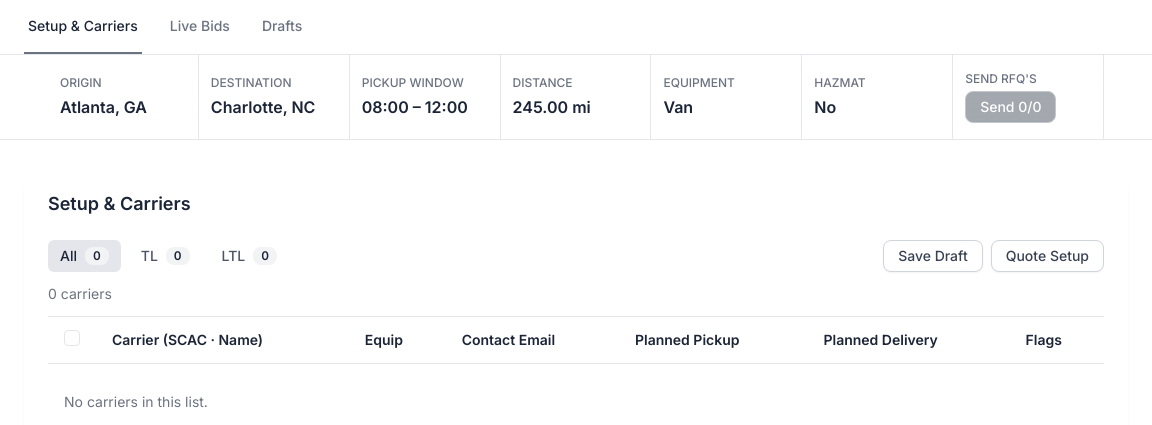
Test case: SpotBoardTab › renders the shipment context as a sticky strip on the Setup sub-tab only
This screenshot has width=1152, height=425.
Check: the element with class "spot-sticky-strip" is shown, box [0,55,1151,140]
Check: the element with class "spot-sticky-strip" shows "Atlanta, GA", box [60,97,147,117]
Click the button "Live Bids" at (200, 35), box [166,16,234,54]
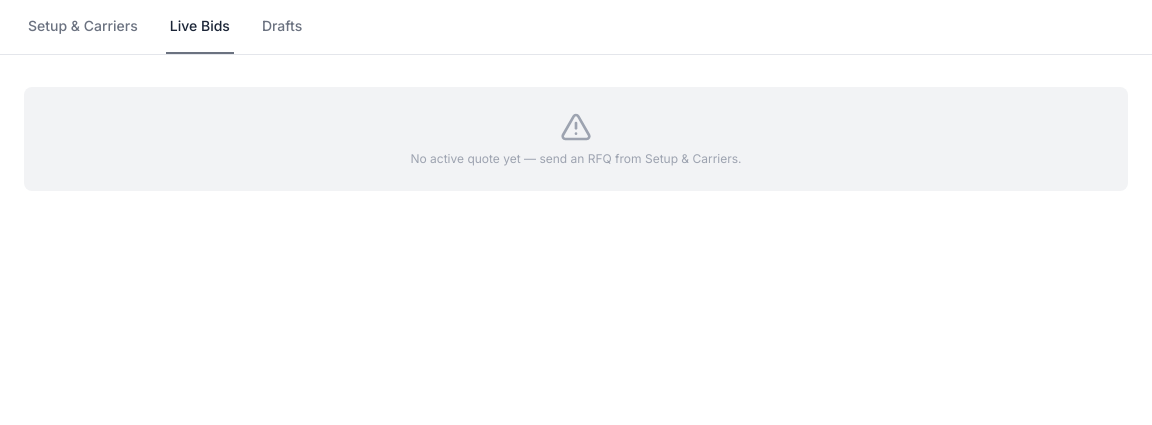
Check: the element with class "spot-sticky-strip" is gone
